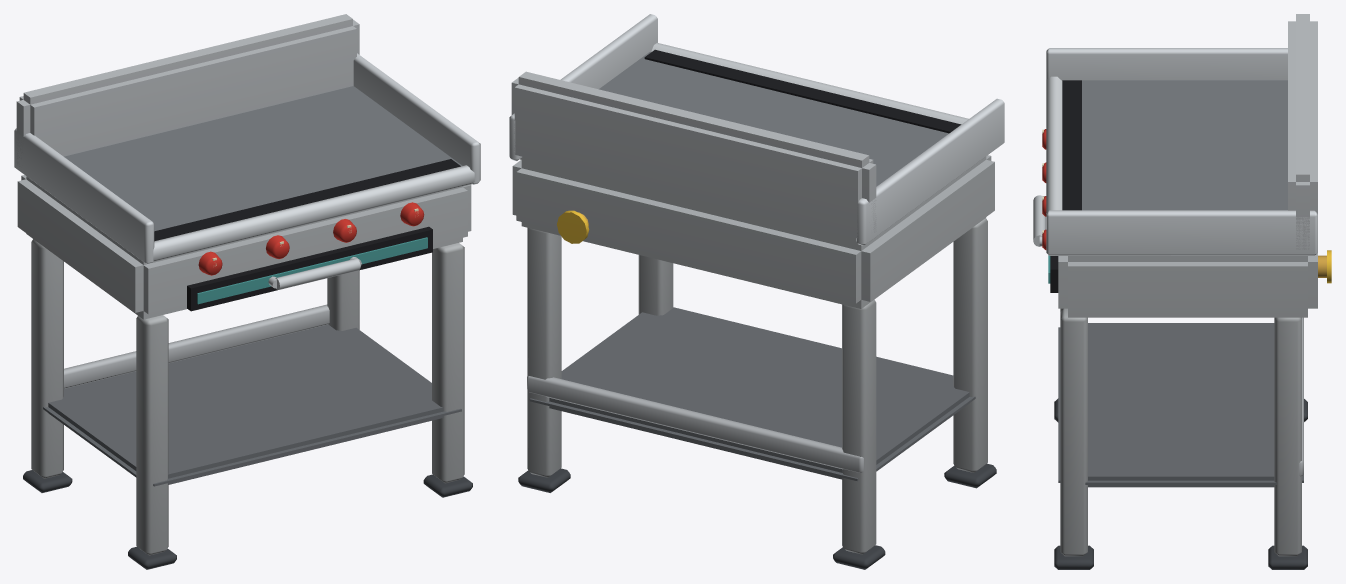
The model's file is SM_Griddle_FlatTop_10.glb.
3 views of the same model, side by side, from view 1: azimuth 30°, elevation 25°; view 2: azimuth 150°, elevation 25°; view 3: azimuth 270°, elevation 25° (orthographic). The views are drawn at different scales.
Parts seen in each view (by area): view 1: SM_Griddle_FlatTop_10; view 2: SM_Griddle_FlatTop_10; view 3: SM_Griddle_FlatTop_10.
Part boxes in pixels (x1,y1,x2,y2): SM_Griddle_FlatTop_10: [14, 14, 480, 569]; SM_Griddle_FlatTop_10: [509, 14, 1004, 569]; SM_Griddle_FlatTop_10: [1033, 14, 1331, 569].
Bounding box in the file's own units: 1 × 1.1 × 0.753.
Materials: 1 (1 with a texture image).
